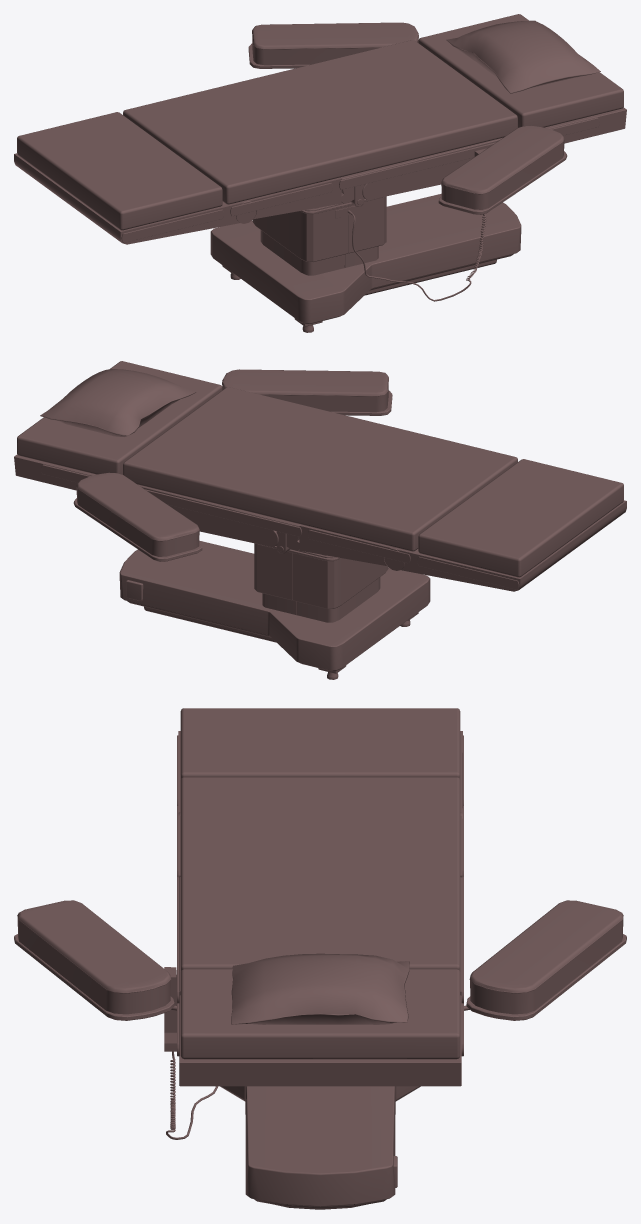
The model's file is SurgeryTable.fbx.
3 renders of one model, top to bottom at view 1: azimuth 30°, elevation 25°; view 2: azimuth 150°, elevation 25°; view 3: azimuth 270°, elevation 25°, orthographic. The views are drawn at different scales.
Parts seen in each view (by area): view 1: Furniture_SurgeryTable_01:Furniture_SurgeryTableMiddle_01, Furniture_SurgeryTable_01:Furniture_SurgeryTableBottom_01, Furniture_SurgeryTable_01:Furniture_SurgeryTableEnd_01, Furniture_SurgeryTable_01:Furniture_SurgeryTableTop_01, Furniture_SurgeryTable_01:Furniture_KneeCushion_01, Furniture_SurgeryTable_01:Furniture_RemoteCord_01; view 2: Furniture_SurgeryTable_01:Furniture_SurgeryTableMiddle_01, Furniture_SurgeryTable_01:Furniture_SurgeryTableBottom_01, Furniture_SurgeryTable_01:Furniture_SurgeryTableEnd_01, Furniture_SurgeryTable_01:Furniture_SurgeryTableTop_01, Furniture_SurgeryTable_01:Furniture_KneeCushion_01; view 3: Furniture_SurgeryTable_01:Furniture_SurgeryTableMiddle_01, Furniture_SurgeryTable_01:Furniture_SurgeryTableTop_01, Furniture_SurgeryTable_01:Furniture_KneeCushion_01, Furniture_SurgeryTable_01:Furniture_SurgeryTableEnd_01, Furniture_SurgeryTable_01:Furniture_SurgeryTableBottom_01, Furniture_SurgeryTable_01:Furniture_Remote_01, Furniture_SurgeryTable_01:Furniture_RemoteCord_01.
Part boxes in pixels (x1=…): Furniture_SurgeryTable_01:Furniture_SurgeryTableMiddle_01: x1=123, y1=40, x2=517, y2=218; Furniture_SurgeryTable_01:Furniture_SurgeryTableBottom_01: x1=210, y1=193, x2=521, y2=332; Furniture_SurgeryTable_01:Furniture_SurgeryTableEnd_01: x1=14, y1=112, x2=256, y2=244; Furniture_SurgeryTable_01:Furniture_SurgeryTableTop_01: x1=418, y1=14, x2=626, y2=143; Furniture_SurgeryTable_01:Furniture_KneeCushion_01: x1=248, y1=22, x2=567, y2=214; Furniture_SurgeryTable_01:Furniture_RemoteCord_01: x1=347, y1=210, x2=486, y2=301; Furniture_SurgeryTable_01:Furniture_SurgeryTableMiddle_01: x1=123, y1=387, x2=517, y2=566; Furniture_SurgeryTable_01:Furniture_SurgeryTableBottom_01: x1=119, y1=540, x2=430, y2=679; Furniture_SurgeryTable_01:Furniture_SurgeryTableEnd_01: x1=384, y1=459, x2=626, y2=591; Furniture_SurgeryTable_01:Furniture_SurgeryTableTop_01: x1=14, y1=361, x2=222, y2=490; Furniture_SurgeryTable_01:Furniture_KneeCushion_01: x1=73, y1=369, x2=392, y2=561; Furniture_SurgeryTable_01:Furniture_SurgeryTableMiddle_01: x1=177, y1=777, x2=463, y2=1003; Furniture_SurgeryTable_01:Furniture_SurgeryTableTop_01: x1=177, y1=953, x2=463, y2=1086; Furniture_SurgeryTable_01:Furniture_KneeCushion_01: x1=14, y1=900, x2=626, y2=1020; Furniture_SurgeryTable_01:Furniture_SurgeryTableEnd_01: x1=177, y1=708, x2=463, y2=818; Furniture_SurgeryTable_01:Furniture_SurgeryTableBottom_01: x1=220, y1=1086, x2=420, y2=1209; Furniture_SurgeryTable_01:Furniture_Remote_01: x1=164, y1=967, x2=176, y2=1051; Furniture_SurgeryTable_01:Furniture_RemoteCord_01: x1=166, y1=1051, x2=217, y2=1139.
Bounding box in the file's own units: 27.89 × 10.84 × 21.92.
